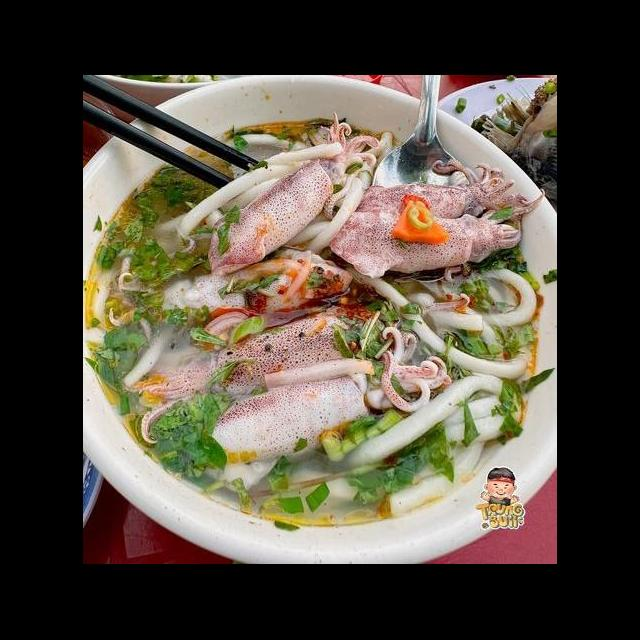bun: (344, 258, 547, 524), (149, 116, 400, 262), (84, 246, 180, 390)
muc: (162, 324, 454, 468), (133, 302, 395, 450), (197, 108, 383, 282), (322, 184, 547, 284), (145, 248, 358, 329), (332, 156, 542, 227)
